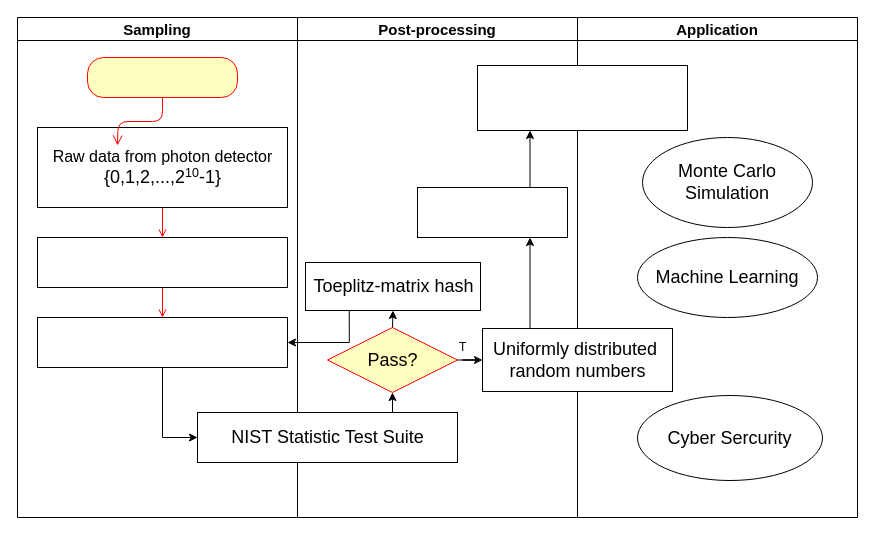
This 875x535 diagram has some shape labels left out. Here are the shapes that lost their labels. From the top down, the centre of each, then its label:
pixel 162 77: Quantum RNG
pixel 582 97: Gaussian distribution, Exponential distribution, ...
pixel 492 212: Ziggurat
pixel 162 262: 10-bit binary numbers
pixel 162 342: random binary sequence
